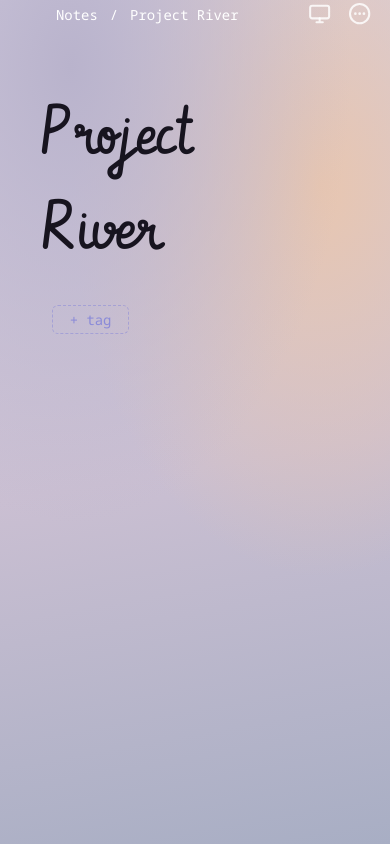
Test: EditorHeader note menu › offers the full set for a regular note
The width and height of the screenshot is (390, 844).
Click the button named "Note actions".
click(360, 14)  # box x1=346 y1=0 x2=374 y2=28
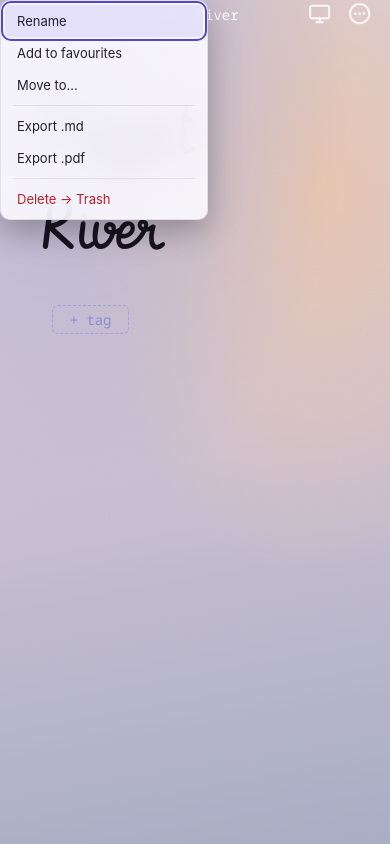
expect the menu item "Rename" is shown: met, box x1=5 y1=5 x2=203 y2=37
expect the menu item "Move to…" is shown: met, box x1=5 y1=69 x2=203 y2=101
expect the menu item "Export .md" is shown: met, box x1=5 y1=110 x2=203 y2=142
